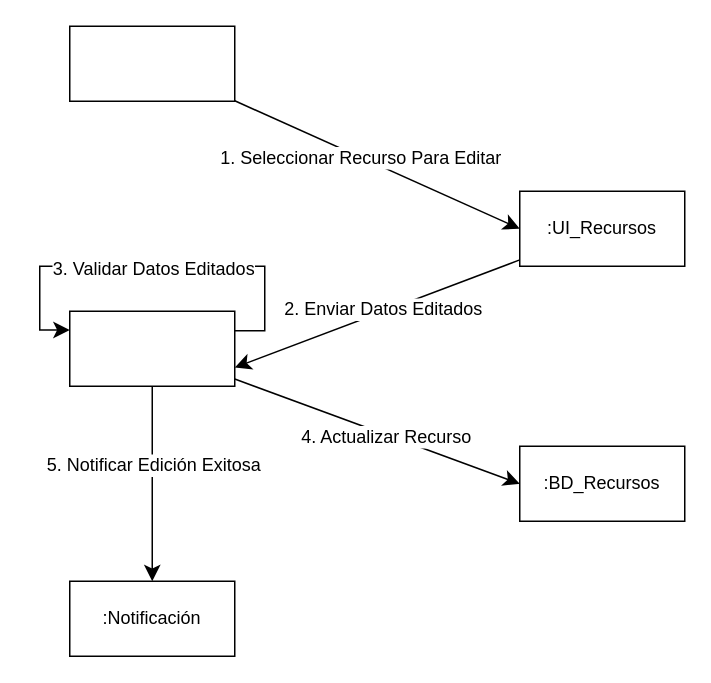
The diagram is 711 pixels wide and 683 high, and some of its shapes have lost their labels. The shapes that lost their labels are listed below. From the top down, each one's centre as x and y in pixels, then its label:
At (x=151, y=63): ":Administrador".
At (x=151, y=348): ":SistemaRecursos".
